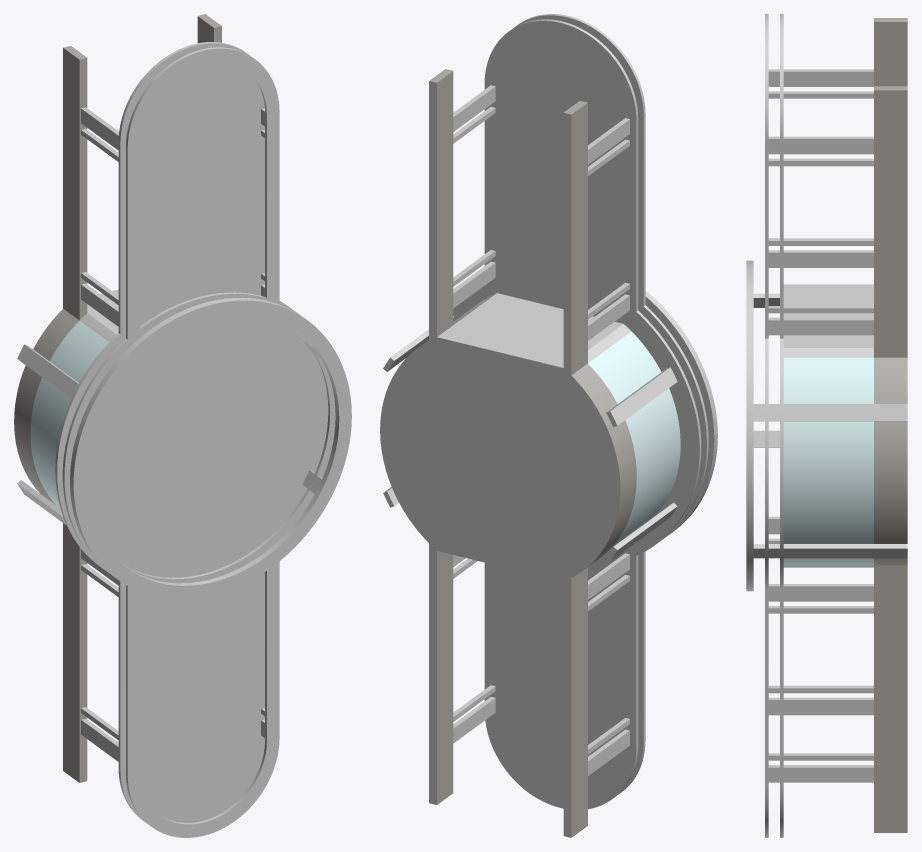
The picture shows the model from 3 angles, left to right: view 1: azimuth 30°, elevation 25°; view 2: azimuth 150°, elevation 25°; view 3: azimuth 270°, elevation 25°; orthographic projection. The views are drawn at different scales.
Visible parts, largest first — view 1: Mesh1 ____ Model; view 2: Mesh1 ____ Model; view 3: Mesh1 ____ Model.
Boxes of the visible parts, left/top/right/bottom form: Mesh1 ____ Model: left=14, top=14, right=351, bottom=837; Mesh1 ____ Model: left=380, top=14, right=717, bottom=837; Mesh1 ____ Model: left=746, top=14, right=907, bottom=837.
Size of the model in its own units: 8800 by 23724 by 4300.
